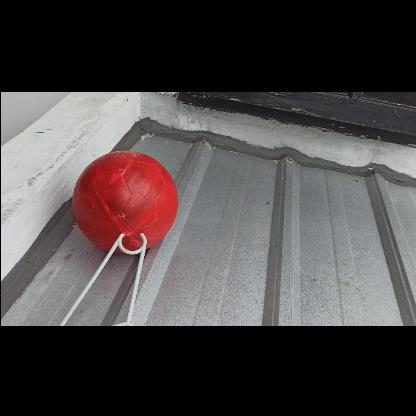red_ball: (72, 148, 176, 252)
